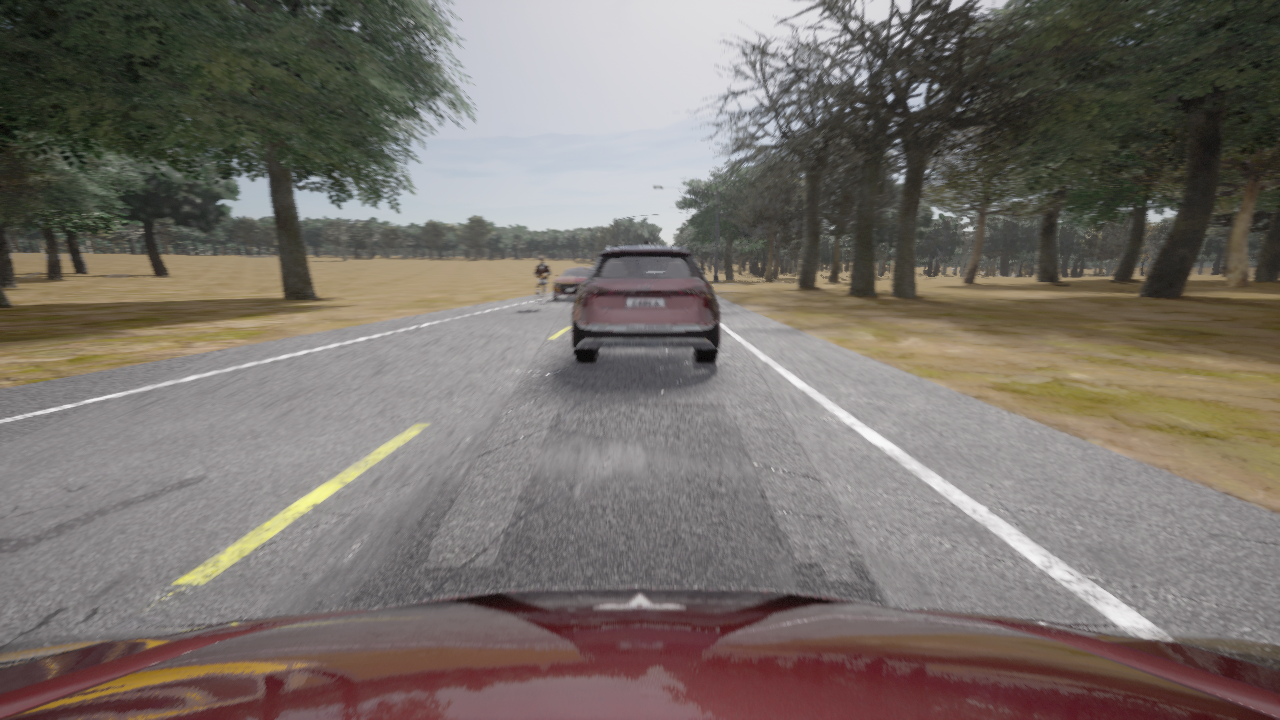cyclist: (0, 588, 1279, 719), (572, 240, 720, 363), (552, 266, 592, 300), (535, 275, 548, 310)
